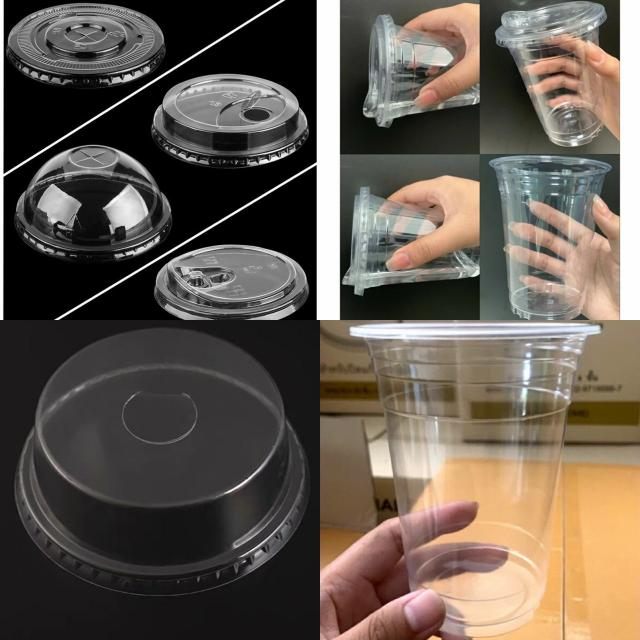Single-Use-Plastic: (15, 328, 309, 595), (352, 322, 599, 638), (490, 155, 611, 320), (15, 145, 172, 262), (495, 1, 606, 146), (151, 74, 309, 168), (342, 188, 479, 295), (6, 4, 165, 89), (362, 15, 479, 127), (155, 245, 309, 319)
